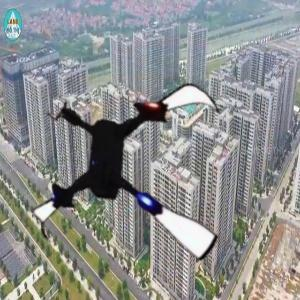drone: (24, 62, 251, 289)
